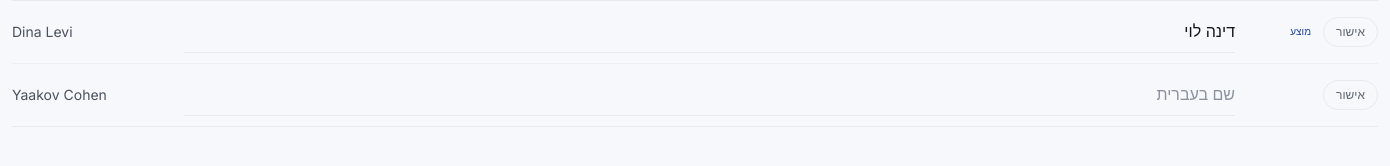
Test: /admin/names — a refused save › tells the owner why, in he
Click the button "אישור" next to "מוצע" at (1350, 32), box [1323,17,1378,47]
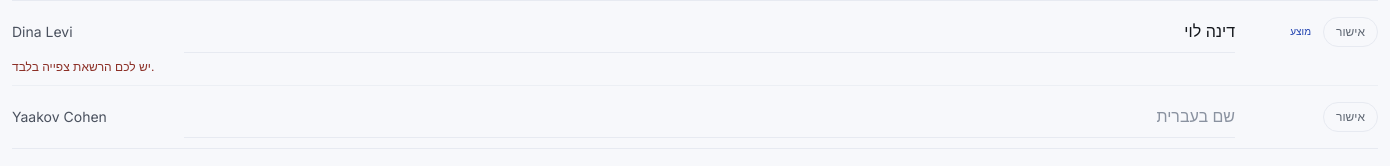
Expected: the text "יש לכם הרשאת צפייה בלבד." is shown, [12,59,154,74]
